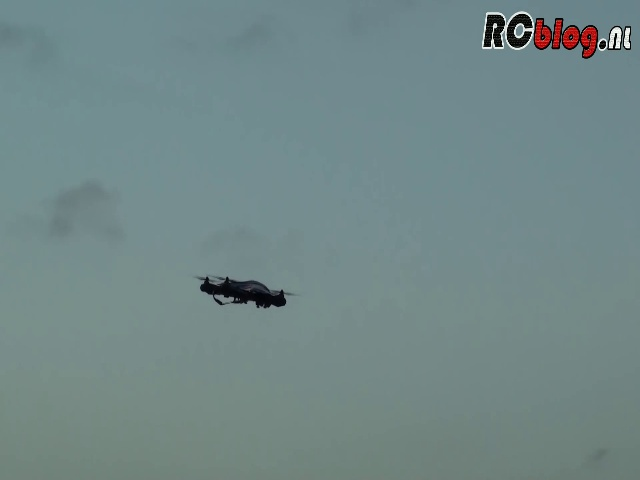drone: (189, 272, 298, 311)
